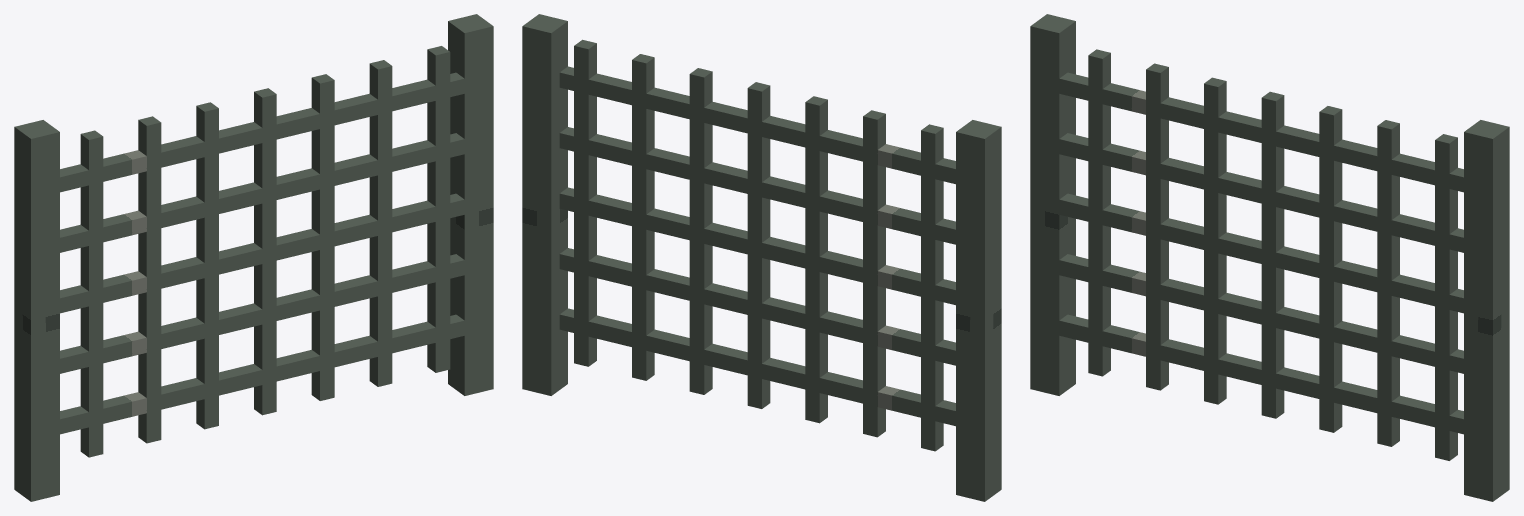
File: fence.gltf
3 views of the same model, side by side, from view 1: azimuth 30°, elevation 25°; view 2: azimuth 150°, elevation 25°; view 3: azimuth 330°, elevation 25° (orthographic).
Parts seen in each view (by area): view 1: wire (×12), post (×2); view 2: wire (×12), post (×2); view 3: wire (×12), post (×2).
Boxes of the visible parts, x1=… form: wire (×12): x1=60, y1=46, x2=464, y2=457; post (×2): x1=14, y1=14, x2=493, y2=501; wire (×12): x1=559, y1=39, x2=955, y2=451; post (×2): x1=522, y1=14, x2=1001, y2=501; wire (×12): x1=1059, y1=49, x2=1463, y2=460; post (×2): x1=1030, y1=14, x2=1509, y2=501.
Size of the model in its own units: 2 by 1.5 by 0.125.
Materials: 1 (1 with a texture image).
